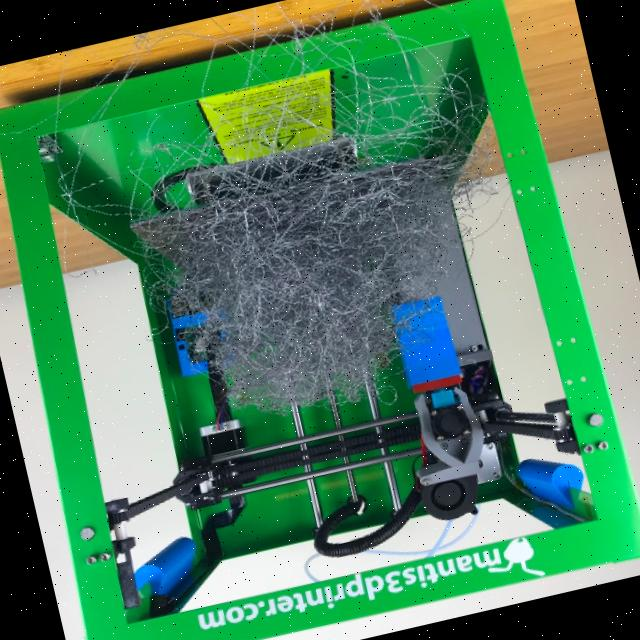spaghetti: (97, 101, 550, 462)
